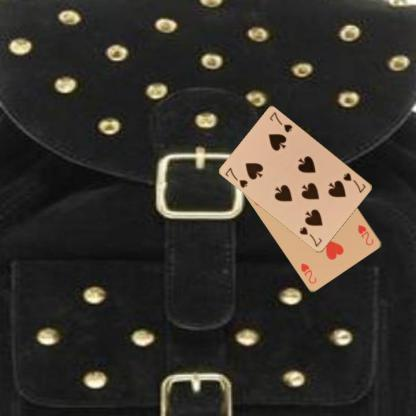2h: (355, 222, 375, 247)
7s: (222, 164, 250, 190), (340, 170, 368, 194)
